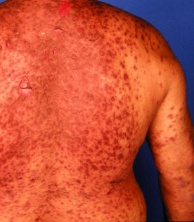SJS-TEN: (0, 0, 142, 217)
